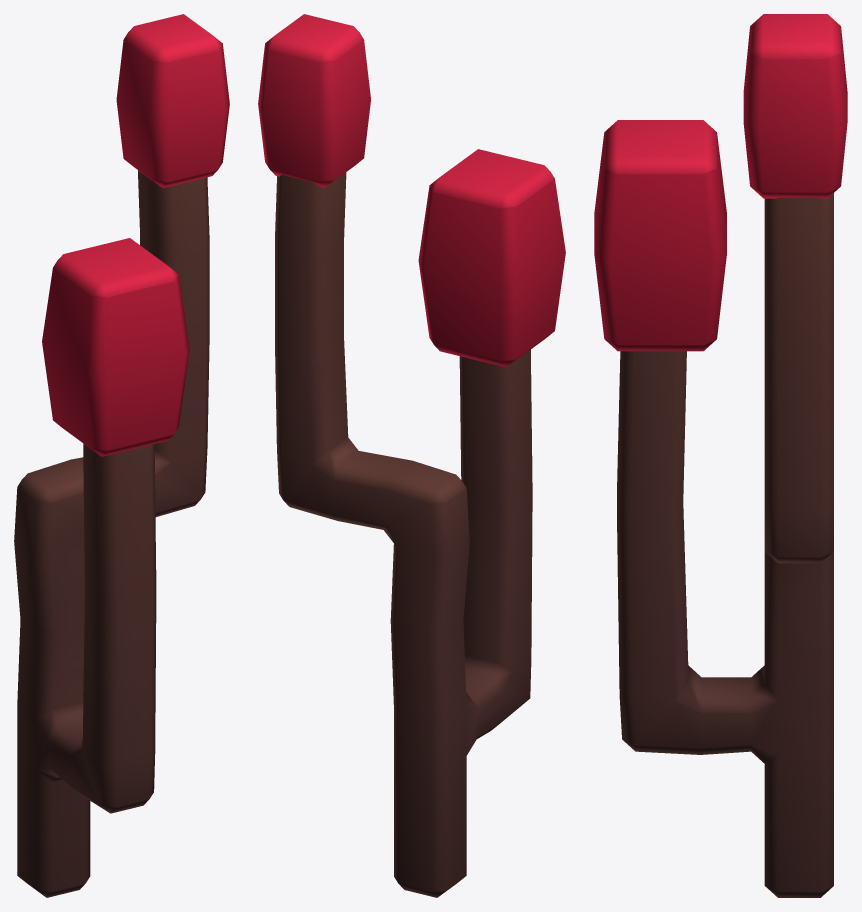
File: shrub_08.fbx
3 views of the same model, side by side, from view 1: azimuth 30°, elevation 25°; view 2: azimuth 150°, elevation 25°; view 3: azimuth 270°, elevation 25° (orthographic). The views are drawn at different scales.
Visible parts, largest first — view 1: shrub_08; view 2: shrub_08; view 3: shrub_08.
Boxes of the visible parts, bbox=[...] form: shrub_08: bbox=[14, 14, 229, 897]; shrub_08: bbox=[258, 14, 565, 897]; shrub_08: bbox=[594, 14, 847, 897].
Bounding box in the file's own units: 54.37 × 206 × 50.97.
